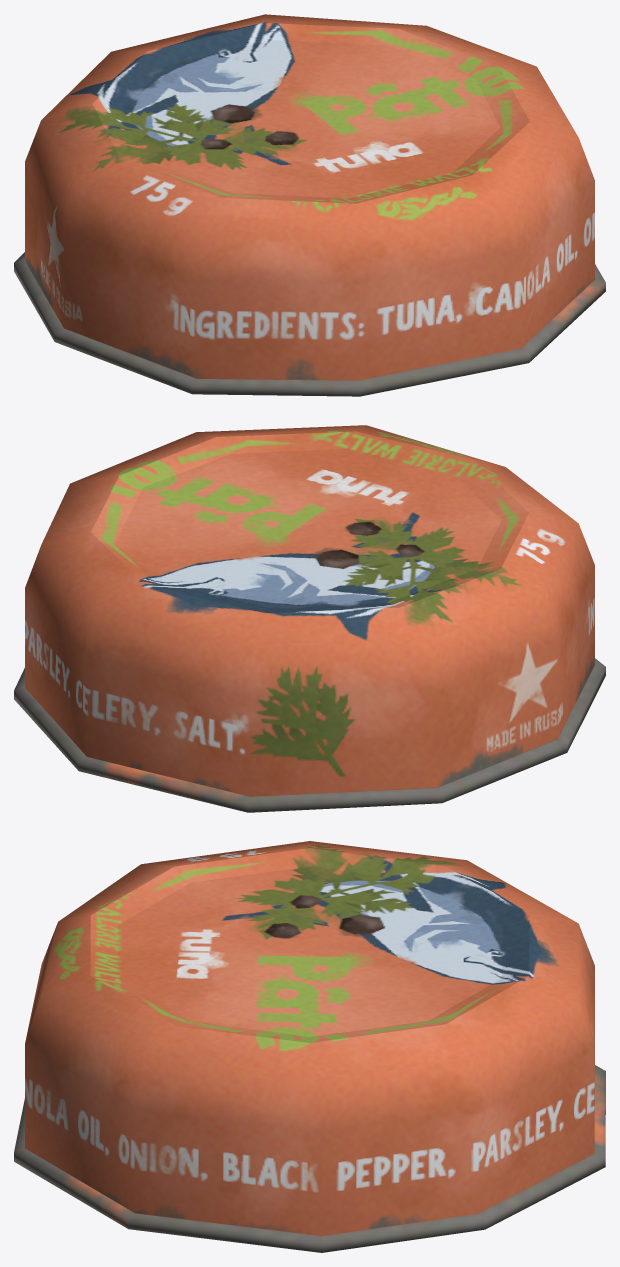
Rendered from GEAR_tunaPate.fbx.
3 views of the same model, one above another, from view 1: azimuth 30°, elevation 25°; view 2: azimuth 150°, elevation 25°; view 3: azimuth 270°, elevation 25° (orthographic). The views are drawn at different scales.
Visible parts, largest first — view 1: tunaPate; view 2: tunaPate; view 3: tunaPate.
Boxes of the visible parts, box(x1,y1,x2,y2) form: tunaPate: box(14, 14, 605, 396); tunaPate: box(14, 425, 605, 812); tunaPate: box(14, 841, 605, 1252).
Size of the model in its own units: 9.36 by 2.97 by 8.89.
1 material, 1 textured.
